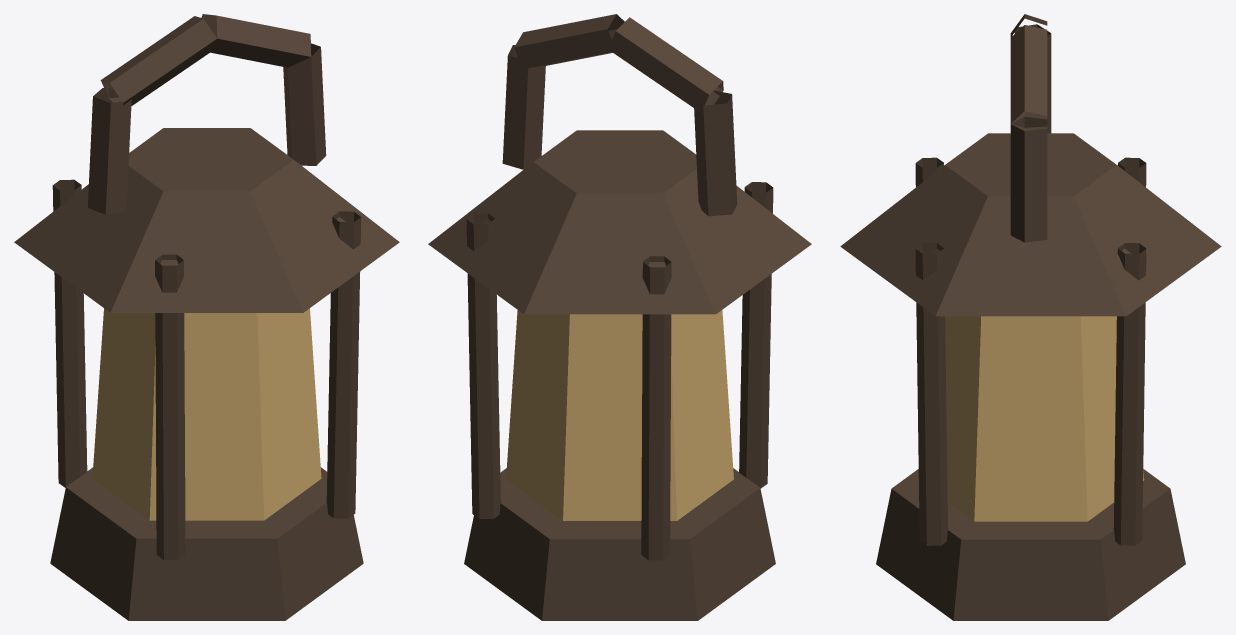
3 views of the same model, side by side, from view 1: azimuth 30°, elevation 25°; view 2: azimuth 150°, elevation 25°; view 3: azimuth 270°, elevation 25° (orthographic).
Parts seen in each view (by area): view 1: C13_六角提灯; view 2: C13_六角提灯; view 3: C13_六角提灯.
Part boxes in pixels (x1,y1,x2,y2): C13_六角提灯: (14, 14, 399, 620); C13_六角提灯: (428, 14, 811, 620); C13_六角提灯: (840, 14, 1221, 620).
Bounding box in the file's own units: 0.2771 × 0.5021 × 0.32.
